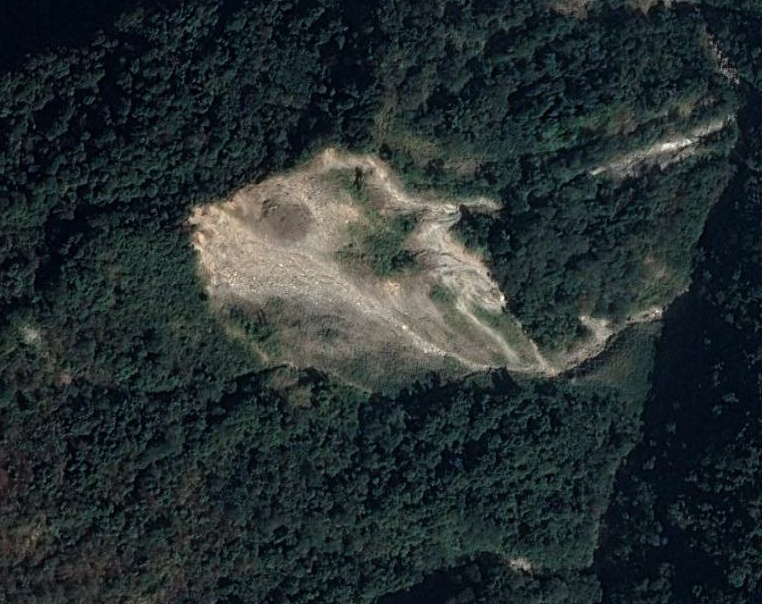slope: (190, 141, 661, 379), (586, 112, 735, 183)
